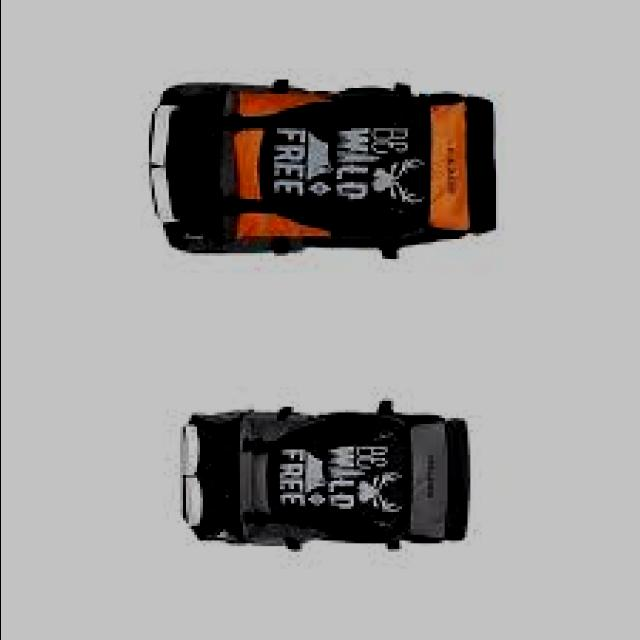backpack: (149, 78, 499, 260), (183, 399, 473, 553)
